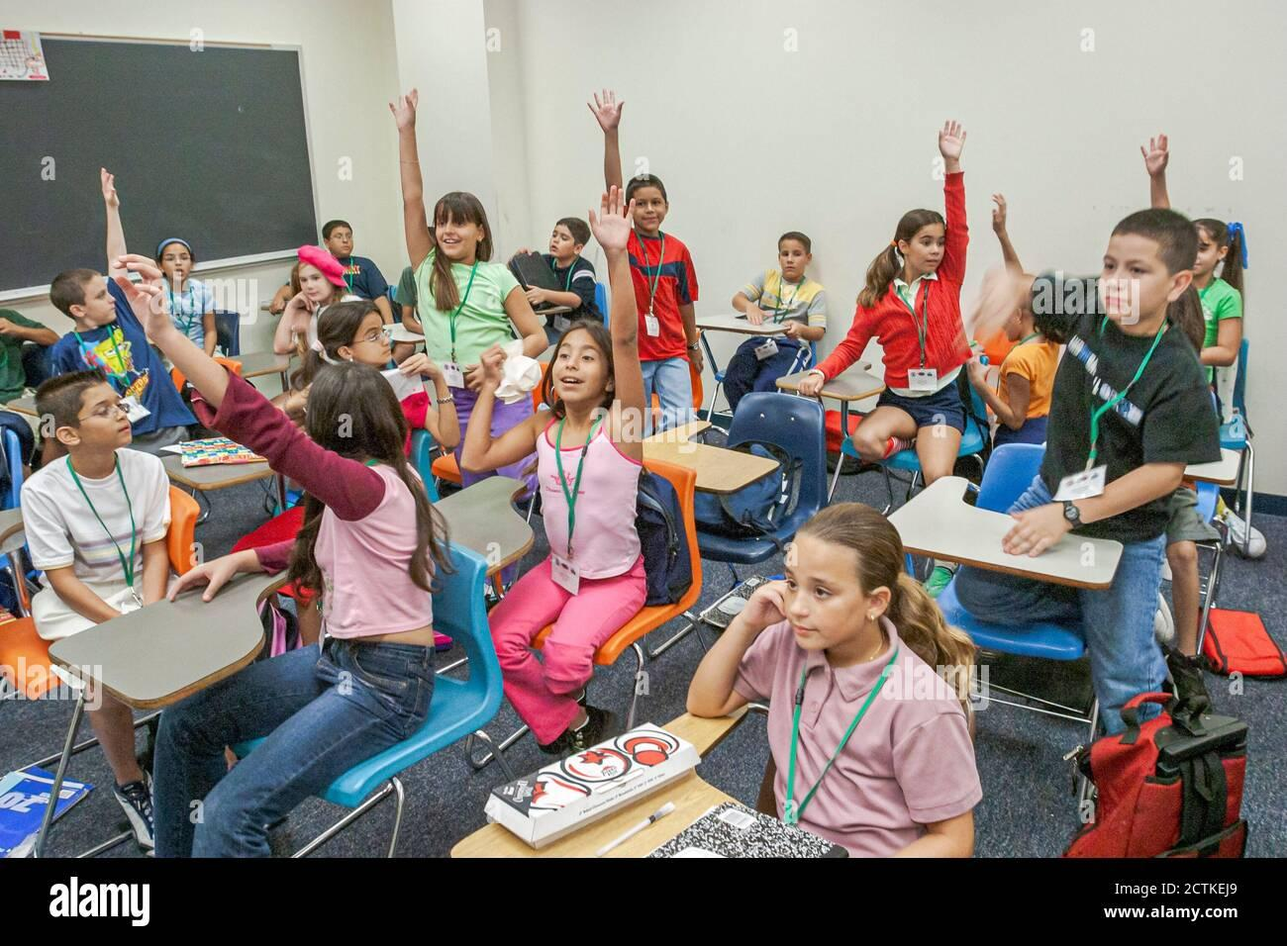study: (115, 246, 441, 631), (452, 182, 651, 541), (392, 86, 546, 373), (816, 117, 970, 398), (39, 166, 160, 400), (596, 93, 698, 353)
